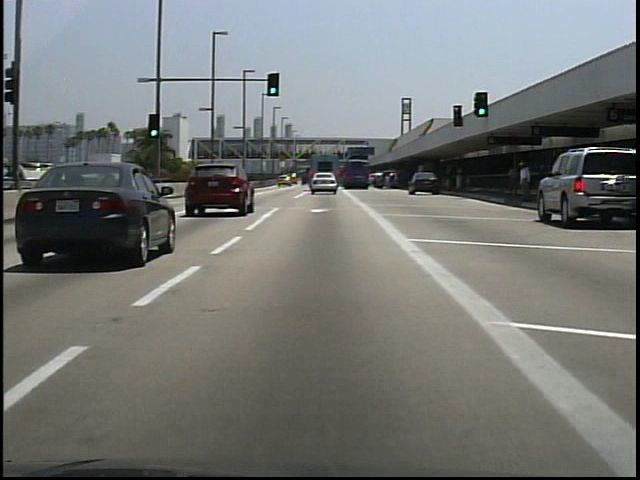person: (514, 156, 534, 205)
